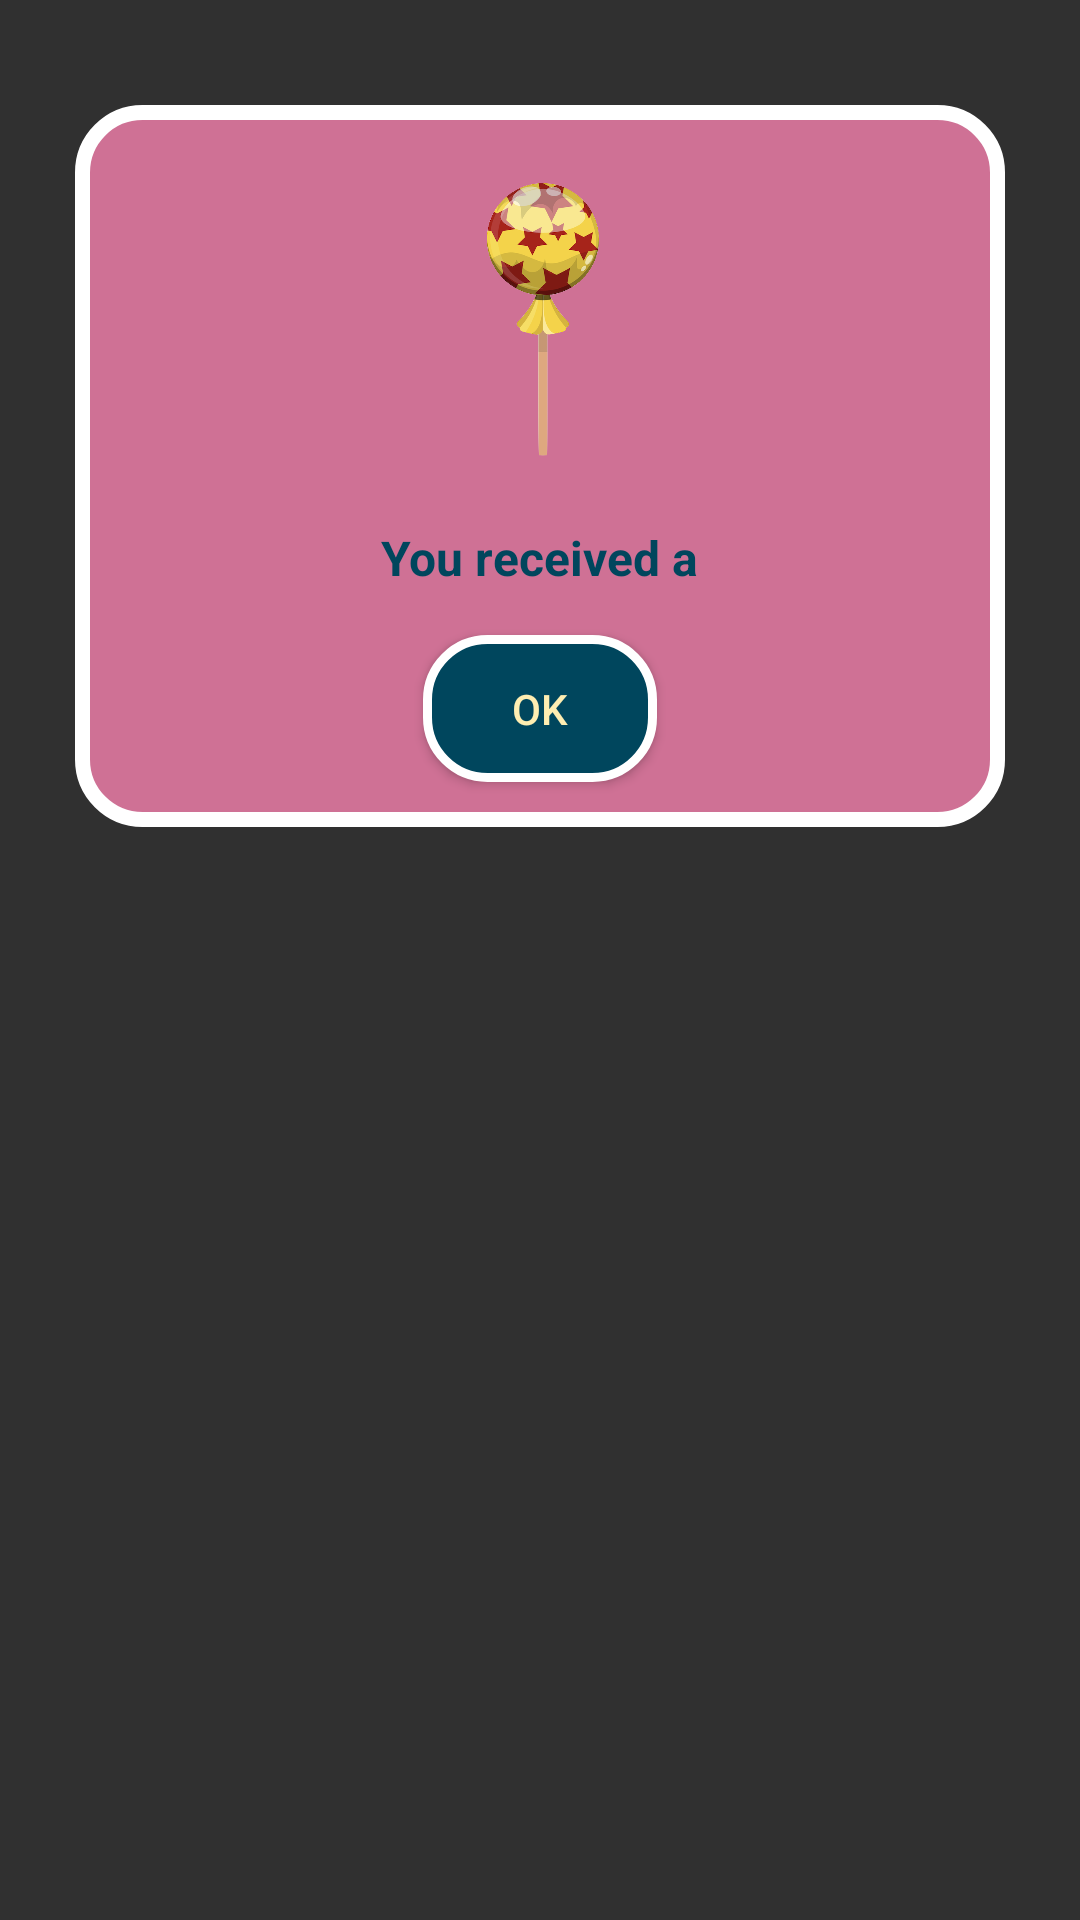

Named icons in this screenshot (1080x1920) and their bounding boxes, (x1, y1, x2, y2):
Image of the catch: (487, 183, 599, 456)
